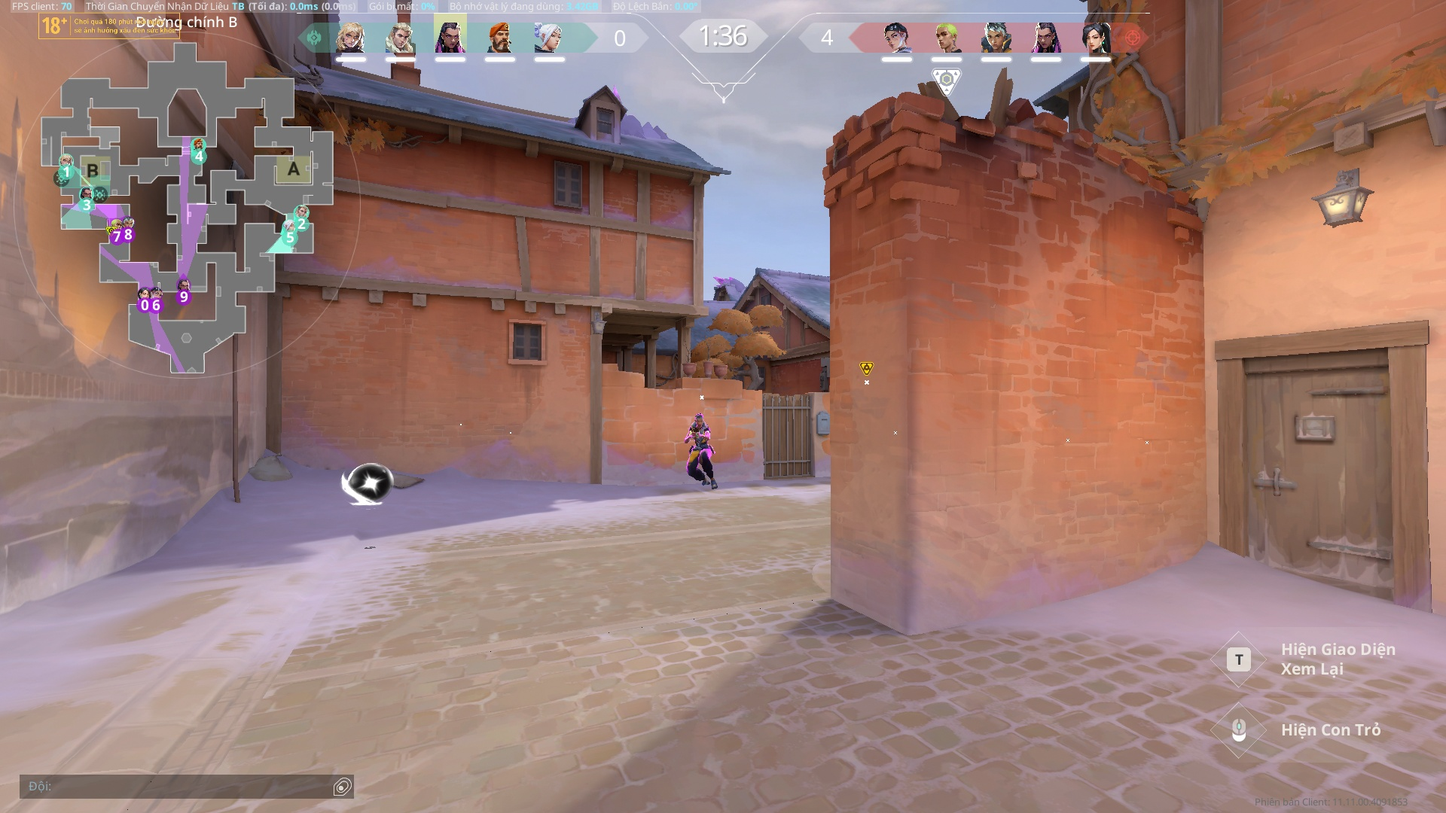body: (691, 423, 711, 446)
head: (694, 413, 703, 427)
